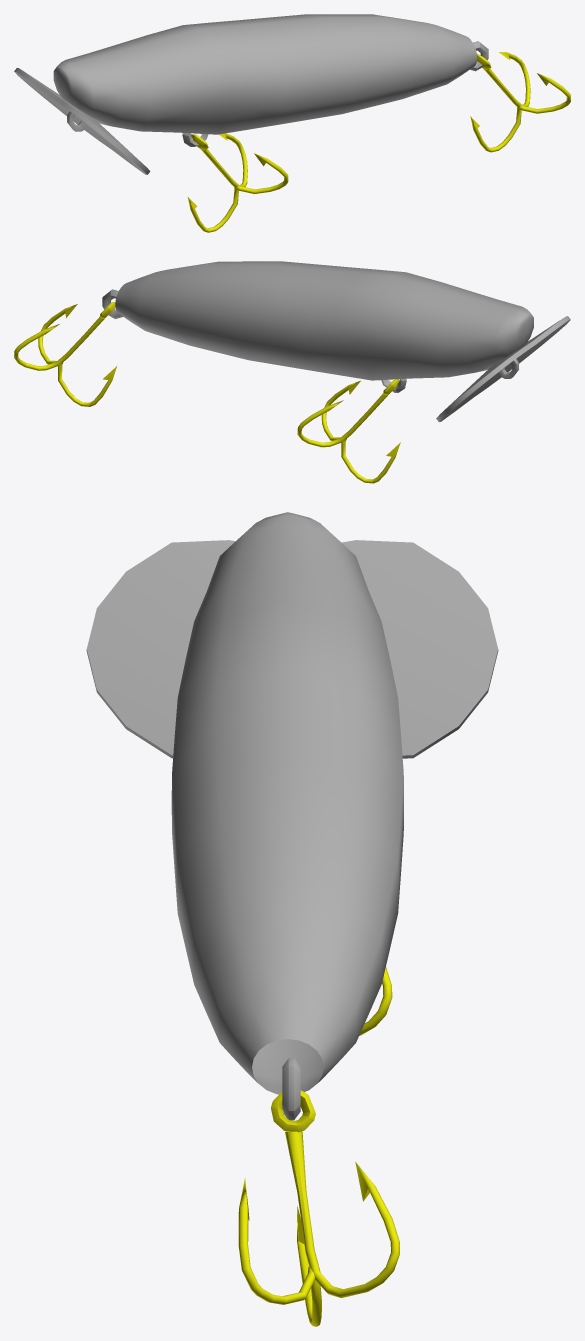
The model's file is JitterOBJ.fbx.
3 renders of one model, top to bottom at view 1: azimuth 30°, elevation 25°; view 2: azimuth 150°, elevation 25°; view 3: azimuth 270°, elevation 25°, orthographic. The views are drawn at different scales.
Visible parts, largest first — view 1: polySurface416; view 2: polySurface416; view 3: polySurface416.
Boxes of the visible parts, box(x1,y1,x2,y2) form: polySurface416: box(14, 14, 570, 232); polySurface416: box(14, 261, 570, 483); polySurface416: box(86, 512, 498, 1326).
Bounding box in the file's own units: 1.7 × 0.6632 × 0.5945.
